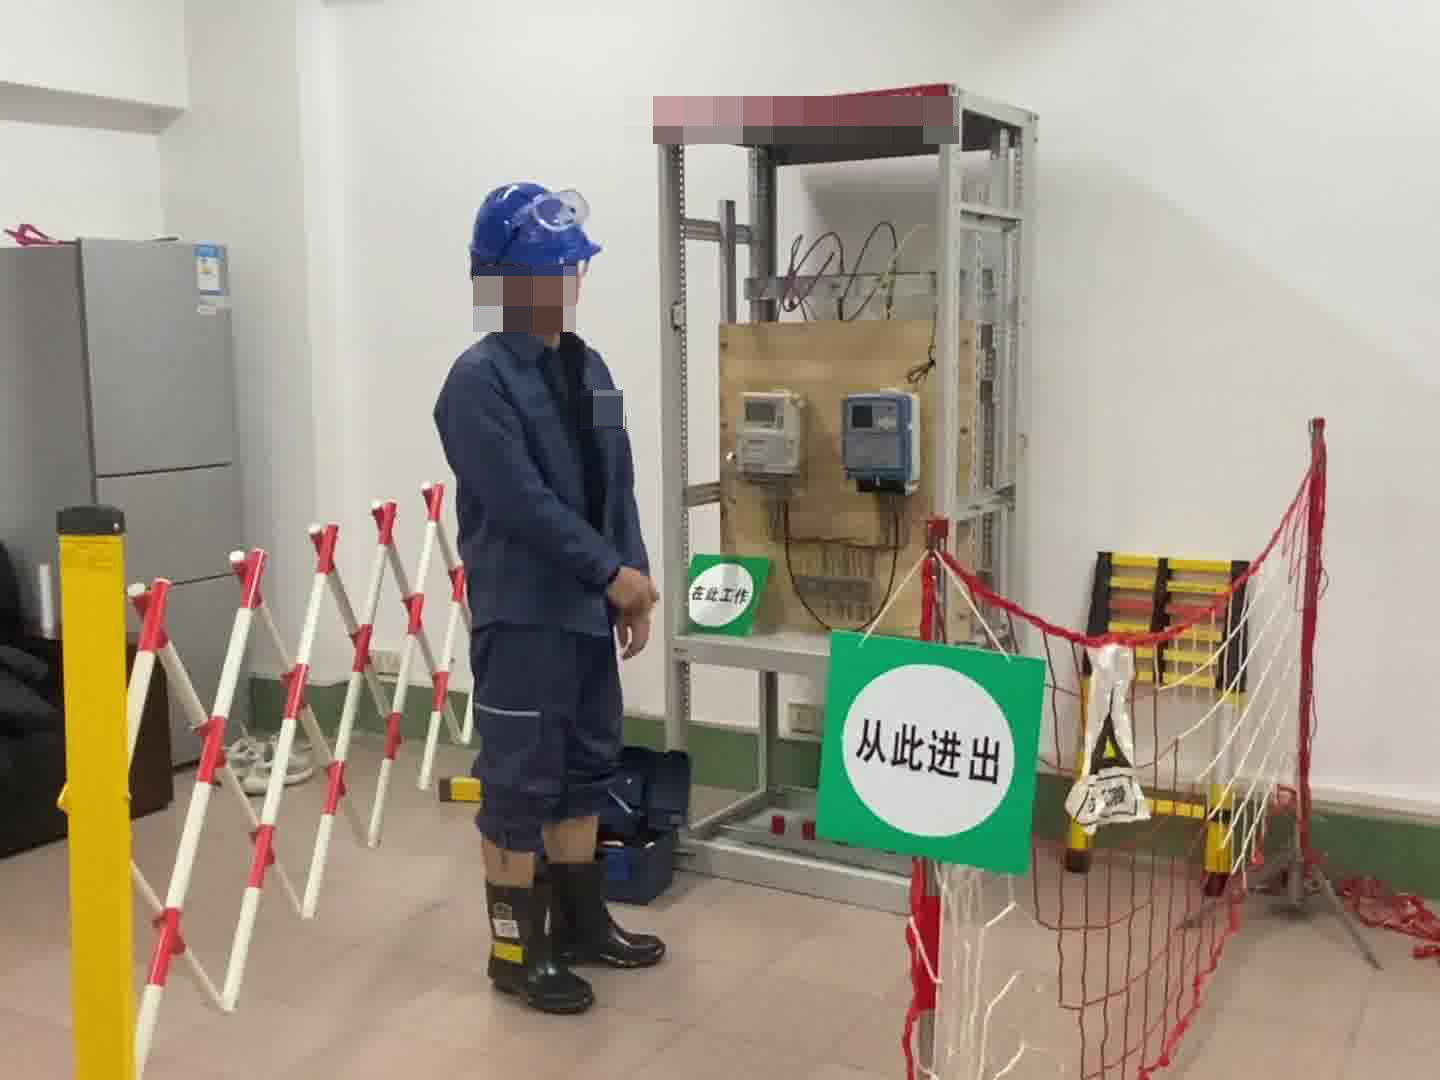downsuit: (468, 637, 642, 874)
halt: (465, 181, 602, 333)
hand: (611, 606, 653, 660), (606, 569, 659, 612)
inear: (484, 265, 545, 323)
intosign: (826, 635, 1032, 865)
person: (424, 176, 684, 1004)
shoe: (486, 884, 588, 1012), (555, 864, 662, 965)
upsuit: (439, 336, 643, 625)
worksign: (689, 556, 764, 639)
wrongbottom: (483, 776, 547, 884), (554, 768, 607, 860)
wrongsuit: (545, 338, 623, 536)
